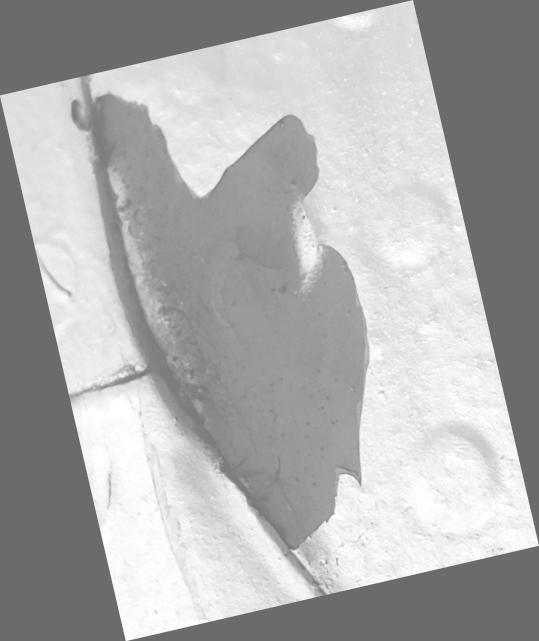paint-off: (1, 0, 539, 640)
